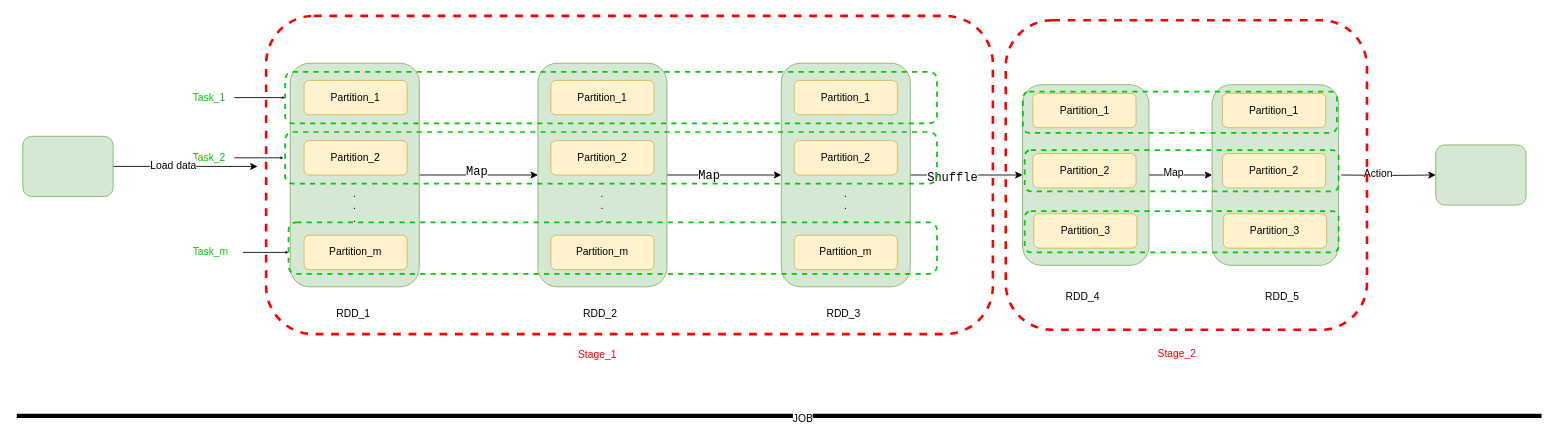
The diagram is 1559 pixels wide and 439 high, and some of its shapes have lost their labels. Here are the shapes that lost their labels. From the top down, the centre of each, then its label:
pixel 67 166: job start
pixel 1480 174: job end
